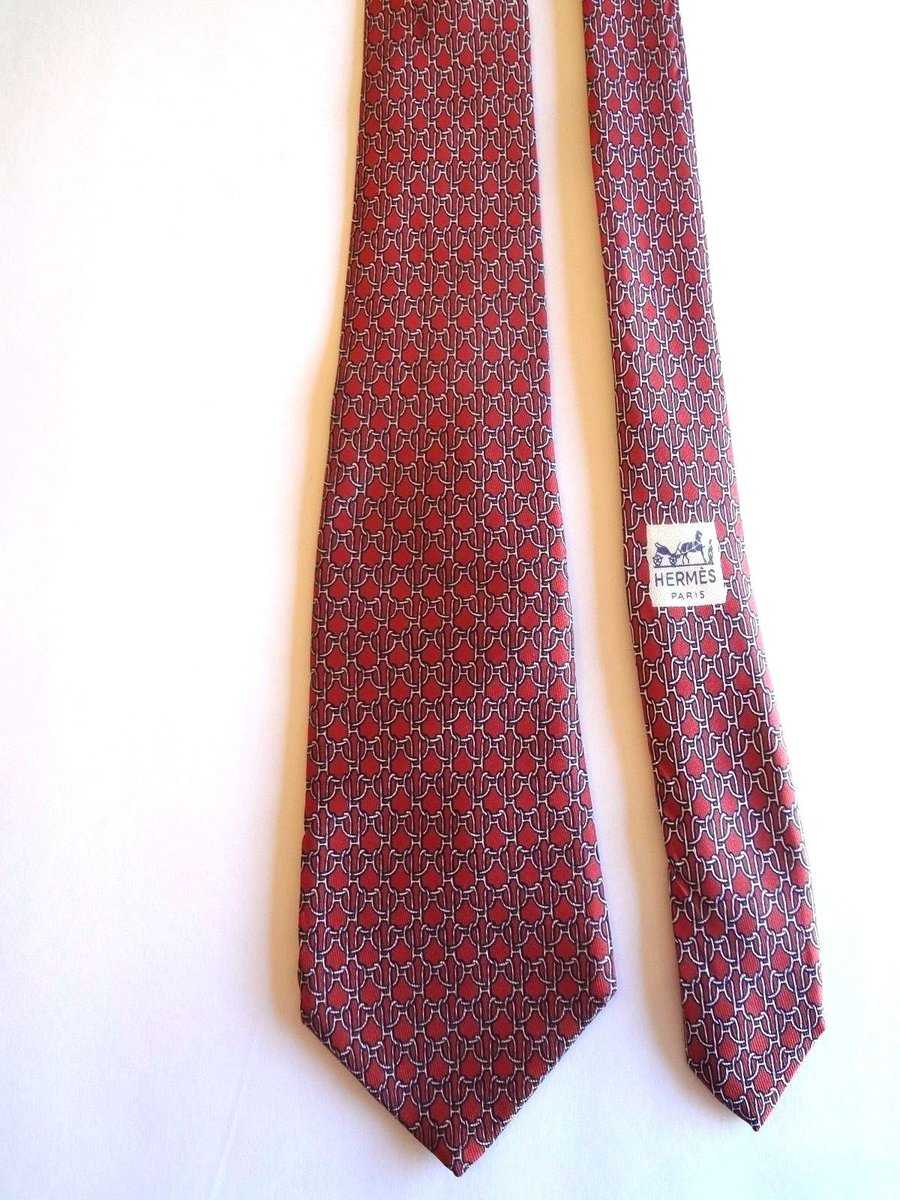HERMES: (651, 527, 720, 600)
